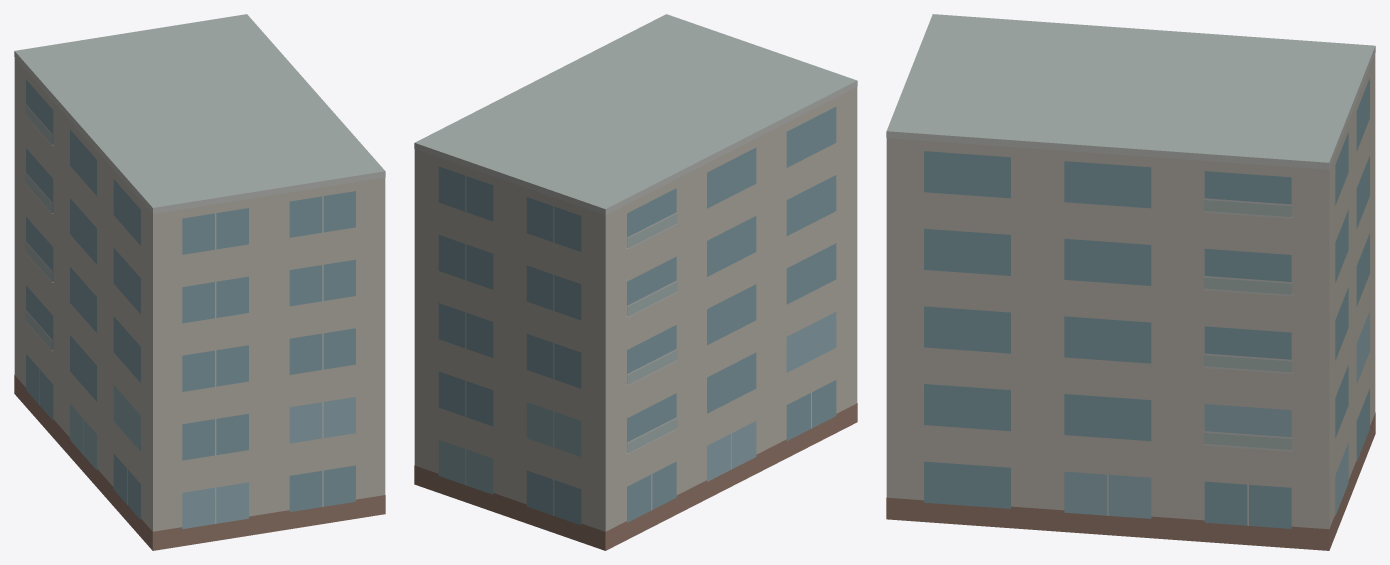
The model's file is survey-upis-32868376.glb.
3 renders of one model, left to right at view 1: azimuth 30°, elevation 25°; view 2: azimuth 150°, elevation 25°; view 3: azimuth 270°, elevation 25°, orthographic. The views are drawn at different scales.
Visible parts, largest first — view 1: survey-upis-32868376.tmp; view 2: survey-upis-32868376.tmp; view 3: survey-upis-32868376.tmp.
Part boxes in pixels (left/top/right/bottom): survey-upis-32868376.tmp: left=14, top=14, right=385, bottom=550; survey-upis-32868376.tmp: left=414, top=14, right=857, bottom=550; survey-upis-32868376.tmp: left=886, top=14, right=1375, bottom=550.
Size of the model in its own units: 11.27 by 13.7 by 15.66.
